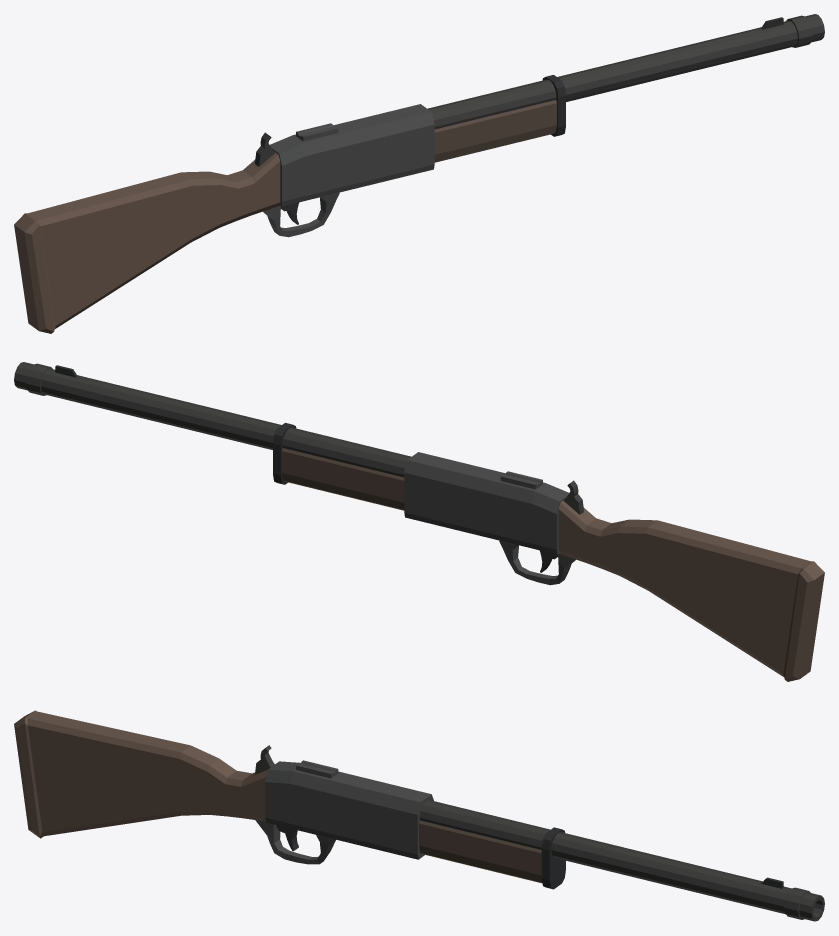
Rendered from shotgun_4.glb.
3 renders of one model, top to bottom at view 1: azimuth 30°, elevation 25°; view 2: azimuth 150°, elevation 25°; view 3: azimuth 330°, elevation 25°, orthographic.
Parts seen in each view (by area): view 1: Shotgun_4; view 2: Shotgun_4; view 3: Shotgun_4.
Part boxes in pixels (left/top/right/bottom): Shotgun_4: left=14, top=14, right=824, bottom=333; Shotgun_4: left=14, top=362, right=824, bottom=681; Shotgun_4: left=14, top=710, right=824, bottom=921.
Bounding box in the file's own units: 5.45 × 0.9268 × 0.1993.
